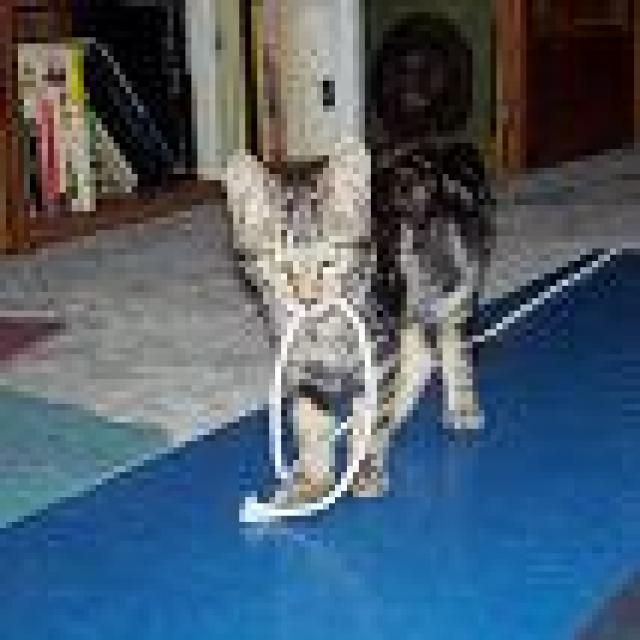cats: (224, 138, 495, 522)
